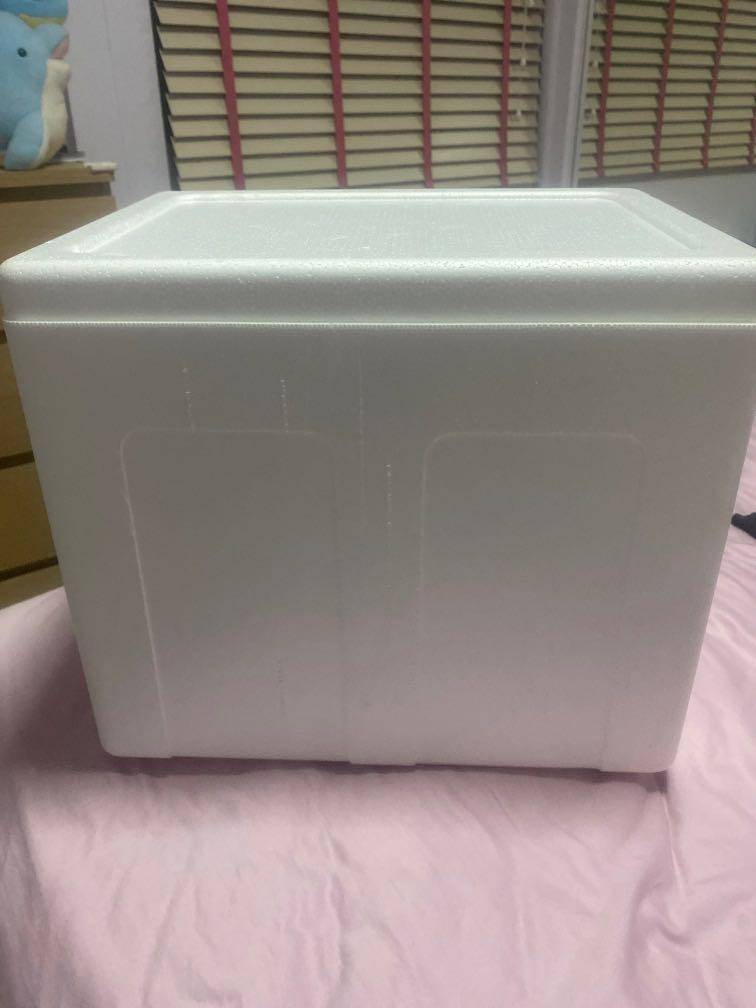FoamBox: (2, 178, 756, 786)
